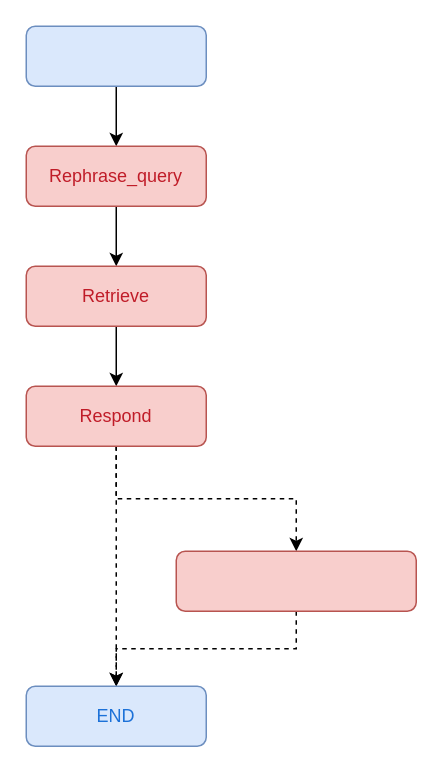
This 443x773 diagram has some shape labels left out. Each missing label, with the box of its shape:
START: (25, 25, 206, 86)
Summarize_conversation: (175, 550, 416, 611)
